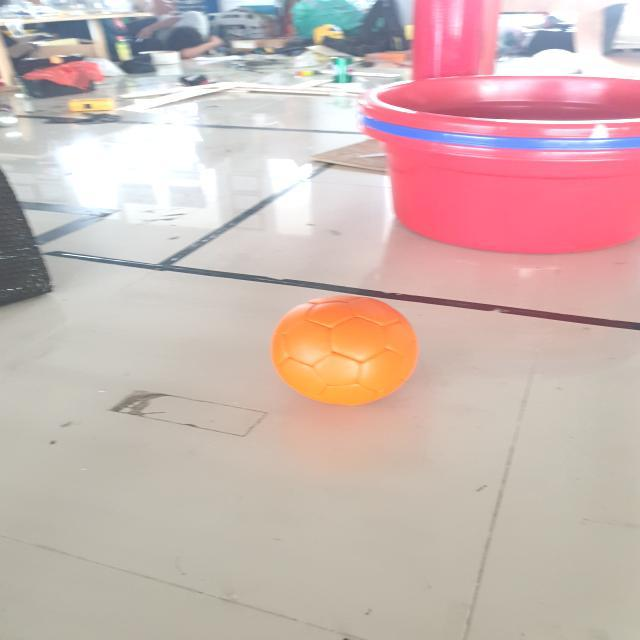bola: (264, 284, 428, 414)
